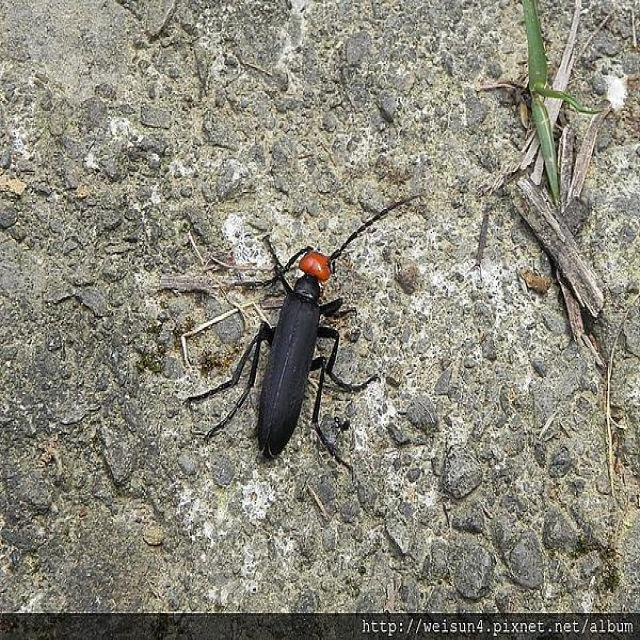BlisterBeetle-Adult-: (195, 207, 422, 478)
